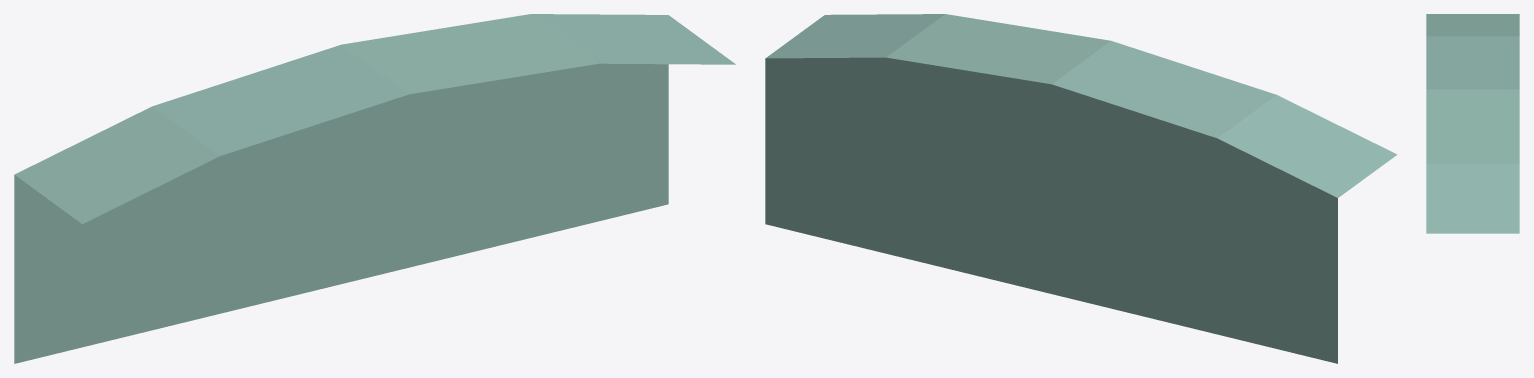
Rendered from cell_217.obj.
3 views of the same model, side by side, from view 1: azimuth 30°, elevation 25°; view 2: azimuth 150°, elevation 25°; view 3: azimuth 270°, elevation 25° (orthographic). The views are drawn at different scales.
Size of the model in its own units: 1 by 0.35 by 0.18.
